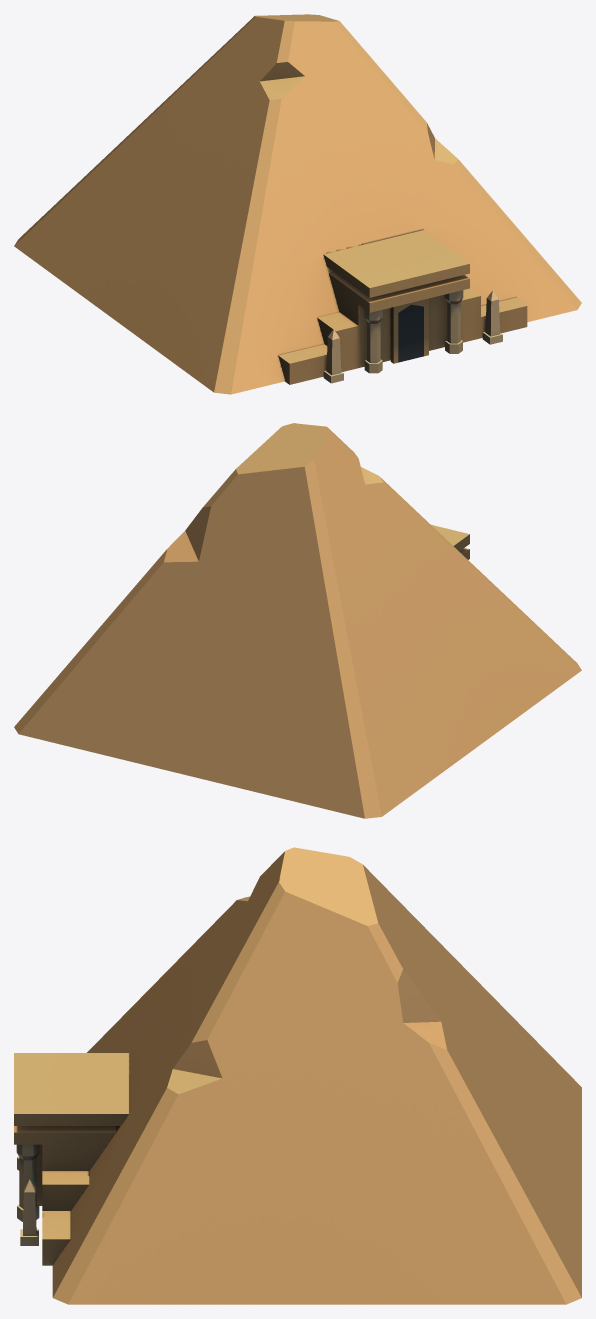
3 renders of one model, top to bottom at view 1: azimuth 30°, elevation 25°; view 2: azimuth 150°, elevation 25°; view 3: azimuth 270°, elevation 25°, orthographic. The views are drawn at different scales.
Visible parts, largest first — view 1: node-0; view 2: node-0; view 3: node-0.
Boxes of the visible parts, <box> form: node-0: <box>14,14,581,394</box>; node-0: <box>14,423,581,818</box>; node-0: <box>14,847,581,1304</box>.
Bounding box in the file's own units: 1.95 × 1.36 × 2.09.
1 material, 1 textured.
